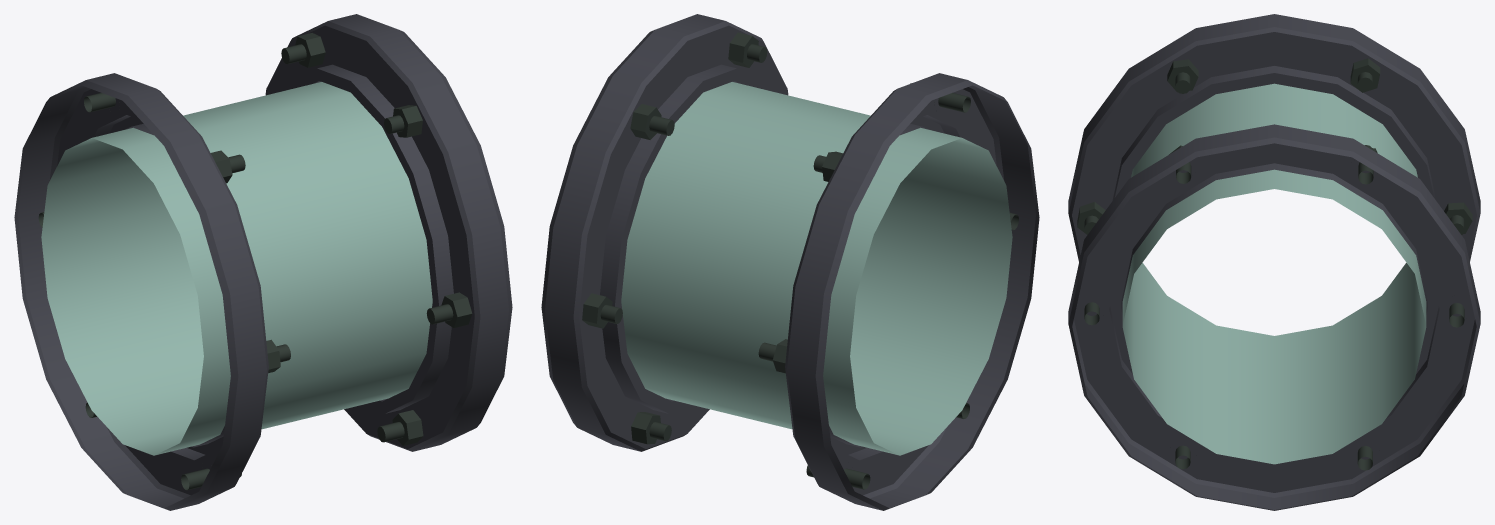
Rendered from PipeComplexLarge_A2_Short_1.fbx.
3 renders of one model, left to right at view 1: azimuth 30°, elevation 25°; view 2: azimuth 150°, elevation 25°; view 3: azimuth 270°, elevation 25°, orthographic. The views are drawn at different scales.
Visible parts, largest first — view 1: PipeComplexLarge_A2_Short_1.001; view 2: PipeComplexLarge_A2_Short_1.001; view 3: PipeComplexLarge_A2_Short_1.001.
Boxes of the visible parts, x1,y1,x2,y2 form: PipeComplexLarge_A2_Short_1.001: (14, 14, 512, 510); PipeComplexLarge_A2_Short_1.001: (541, 14, 1039, 510); PipeComplexLarge_A2_Short_1.001: (1068, 14, 1480, 510).
Size of the model in its own units: 0.2 by 0.2712 by 0.2712.
